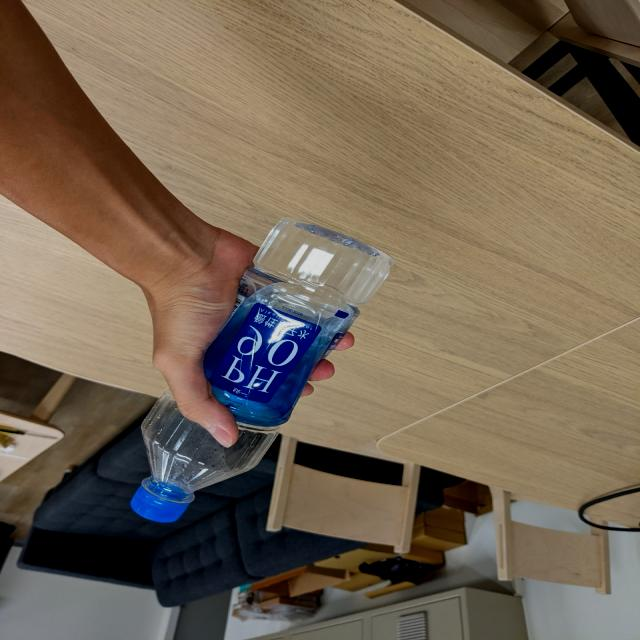bottle: (125, 218, 397, 526)
